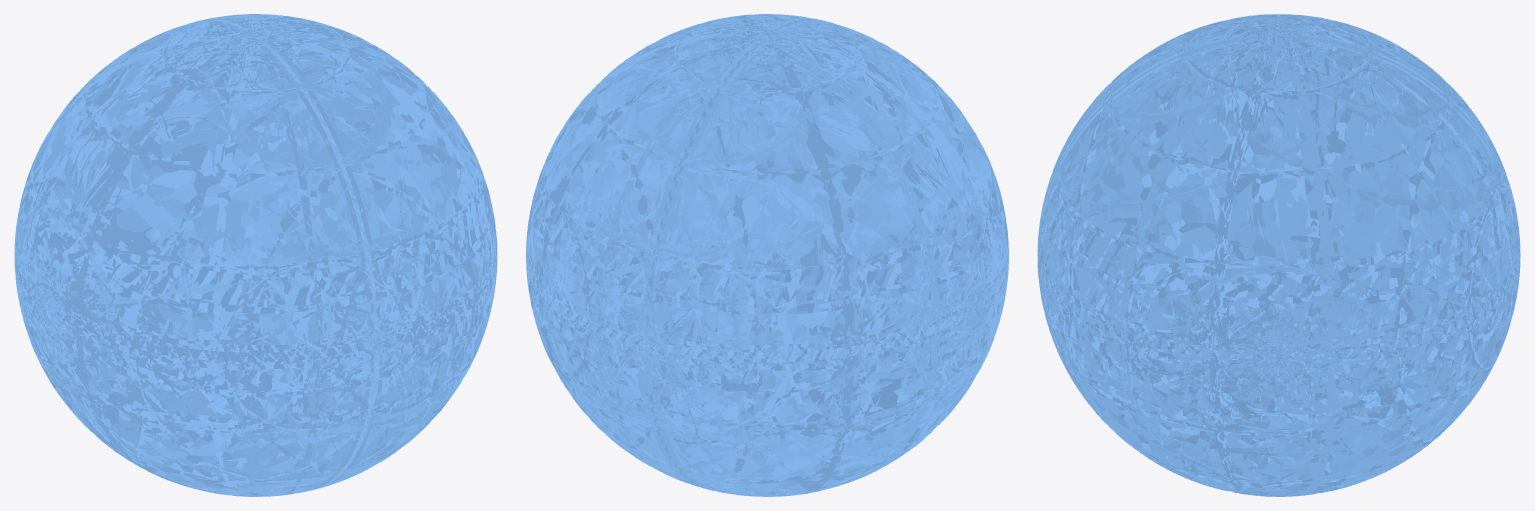
Rendered from buoyancy_tanks.glb.
The picture shows the model from 3 angles, left to right: view 1: azimuth 30°, elevation 25°; view 2: azimuth 150°, elevation 25°; view 3: azimuth 270°, elevation 25°; orthographic projection.
Parts seen in each view (by area): view 1: buoyancy_tanks; view 2: buoyancy_tanks; view 3: buoyancy_tanks.
Boxes of the visible parts, left/top/right/bottom form: buoyancy_tanks: left=14, top=14, right=497, bottom=496; buoyancy_tanks: left=526, top=14, right=1008, bottom=496; buoyancy_tanks: left=1037, top=14, right=1520, bottom=496.
Bounding box in the file's own units: 2 × 2 × 2.
